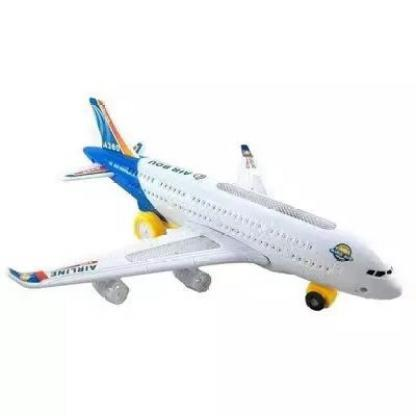CIV_Plane: (5, 93, 404, 313)
